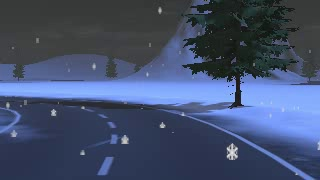Lane: (0, 94, 315, 179)
